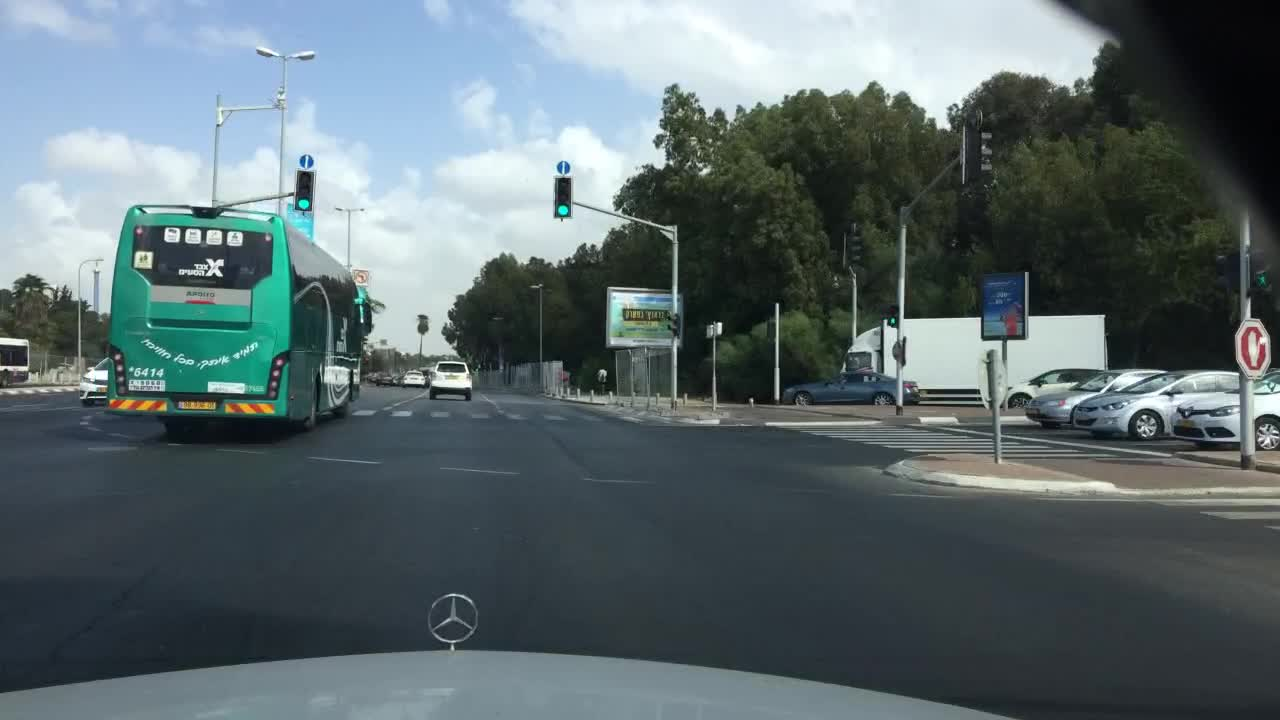bus: (103, 201, 373, 435), (1, 336, 32, 388)
car: (1068, 366, 1244, 438), (1025, 366, 1169, 428), (1170, 368, 1278, 448), (780, 366, 919, 406), (1003, 367, 1106, 407), (427, 359, 473, 401), (77, 355, 112, 408), (401, 369, 426, 389), (376, 372, 394, 387), (420, 367, 432, 389), (390, 373, 405, 387), (365, 371, 377, 384)
traffic light: (957, 123, 993, 185), (1246, 247, 1274, 296), (842, 225, 863, 270), (294, 169, 315, 213), (554, 176, 574, 219), (886, 305, 899, 327)
traffic sign: (604, 283, 682, 348), (977, 270, 1029, 339), (1231, 317, 1272, 378), (350, 270, 368, 284)
truck: (839, 314, 1109, 408)
